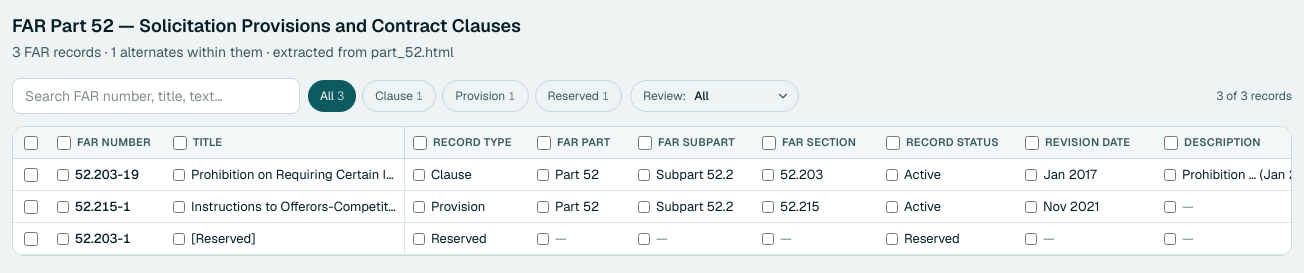
Test: FarRecordsView › filters by type chip and the Review dropdown
The width and height of the screenshot is (1304, 273).
Click the button "Reserved 1" at [578, 96], box [534,80,622,112]
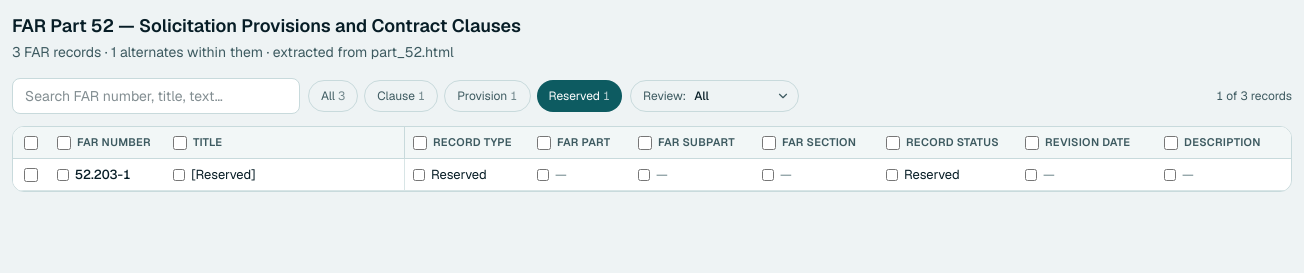
Click the button "All 3" at [333, 96], box [308,80,358,112]
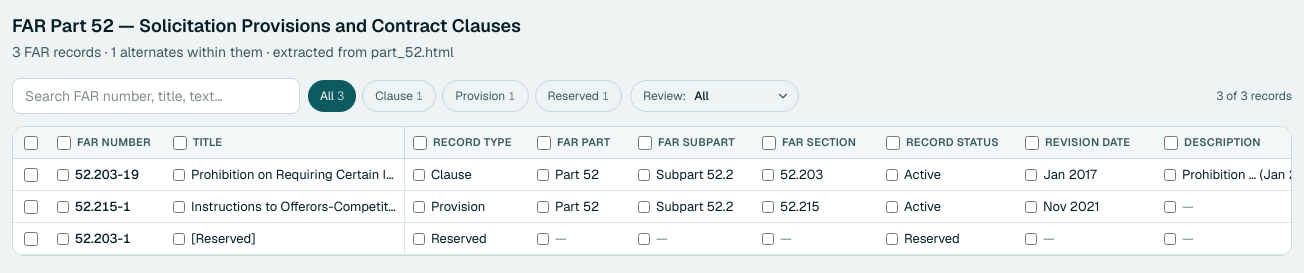
Select "Needs Review" in the dropdown named "Review status" at [742, 96], box [690,81,794,111]
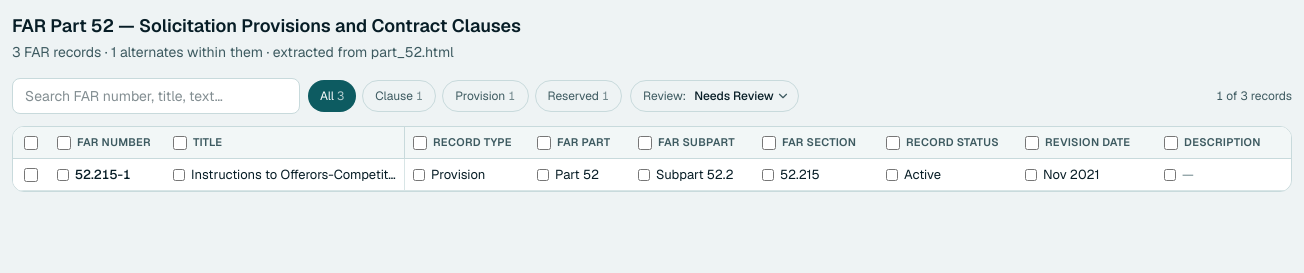
Expected: the text "52.203-19" is gone
